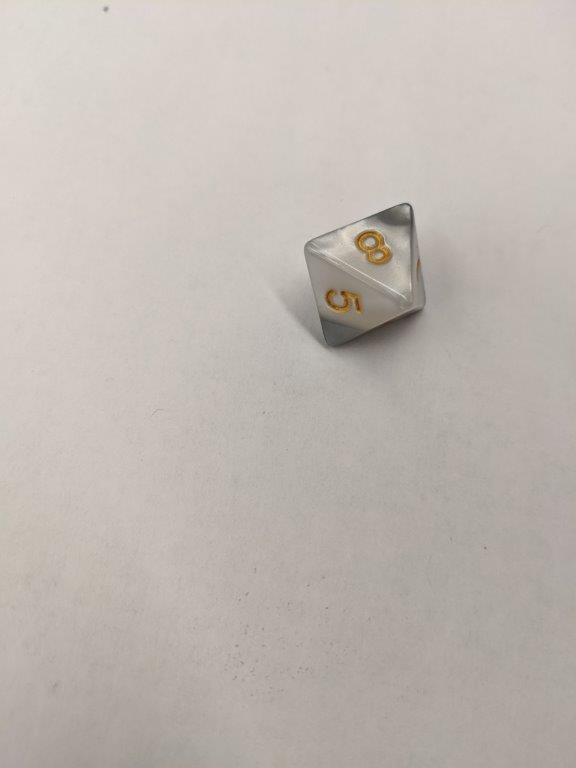d8-8: (303, 200, 428, 346)
